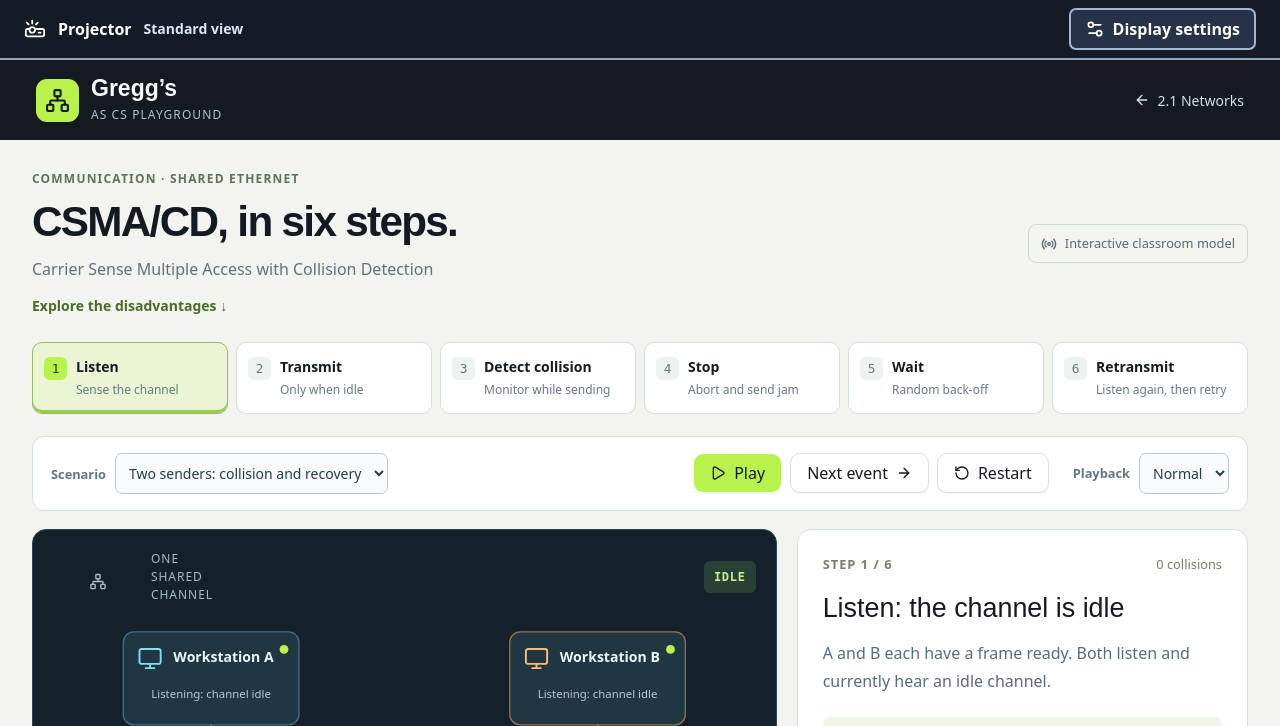
Test: AS chapter catalogue › opens the English CSMA/CD lab through its Pages link and returns to Networks
The image size is (1280, 726).
Expected: the heading "CSMA/CD, in six steps." is shown, [32,197,457,248]
Click the link "2.1 Networks": (1189, 100) [1134,90,1244,111]
(page scrolled)
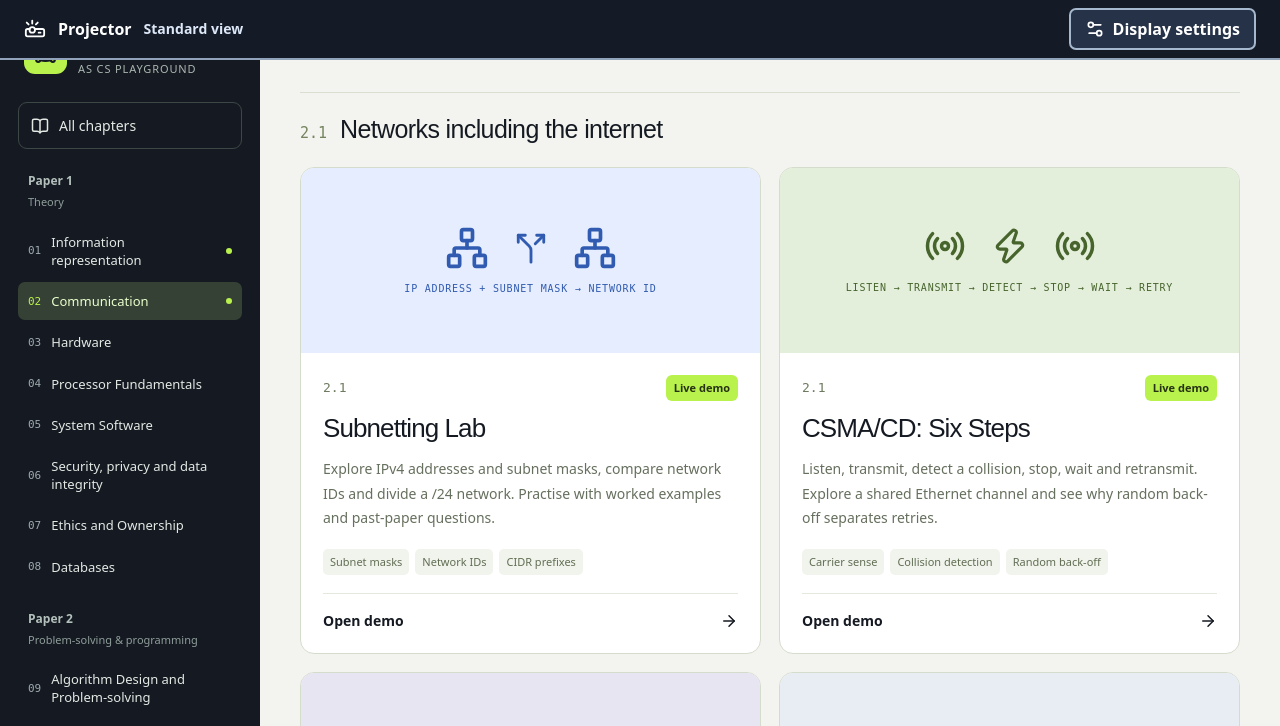
Click the link with aria-label "Open CSMA/CD: Six Steps": (1010, 410) [779,167,1240,654]
(page scrolled)
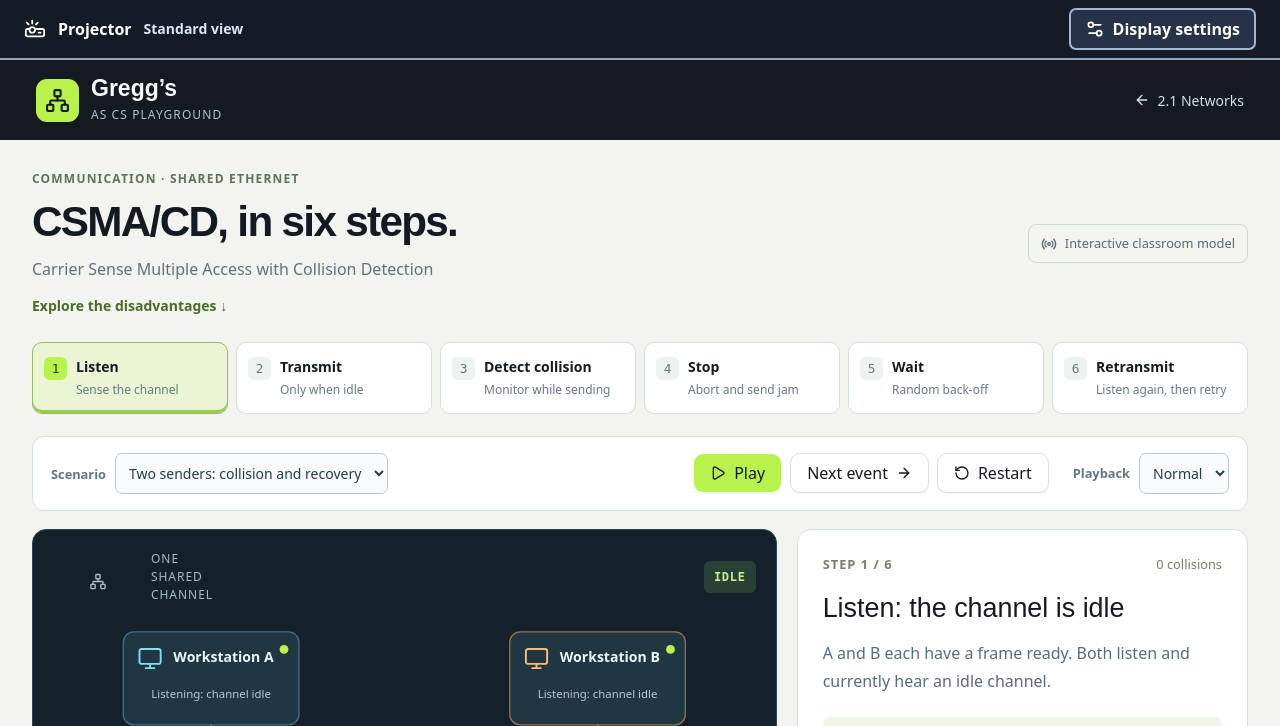
Now the heading "CSMA/CD, in six steps." is shown, box [32,197,457,248]
